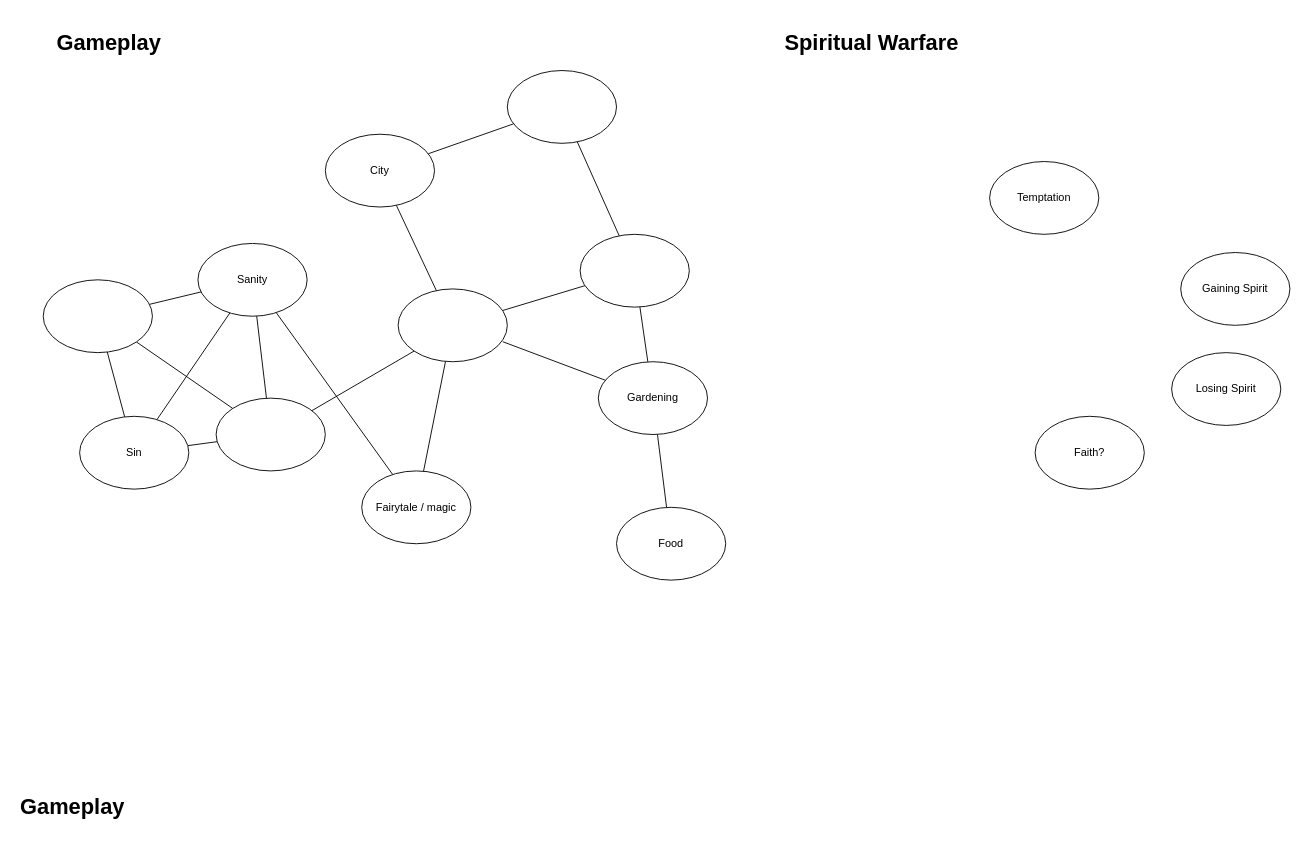
Image size: 1306x841. Some labels were removed from this diagram. The centre of each missing label's shape, as x and y in pixels:
Cozy / home: [634,270]
Dangers: [270,434]
Forest: [452,325]
Library / books: [561,106]
Light and darkness: [97,316]
